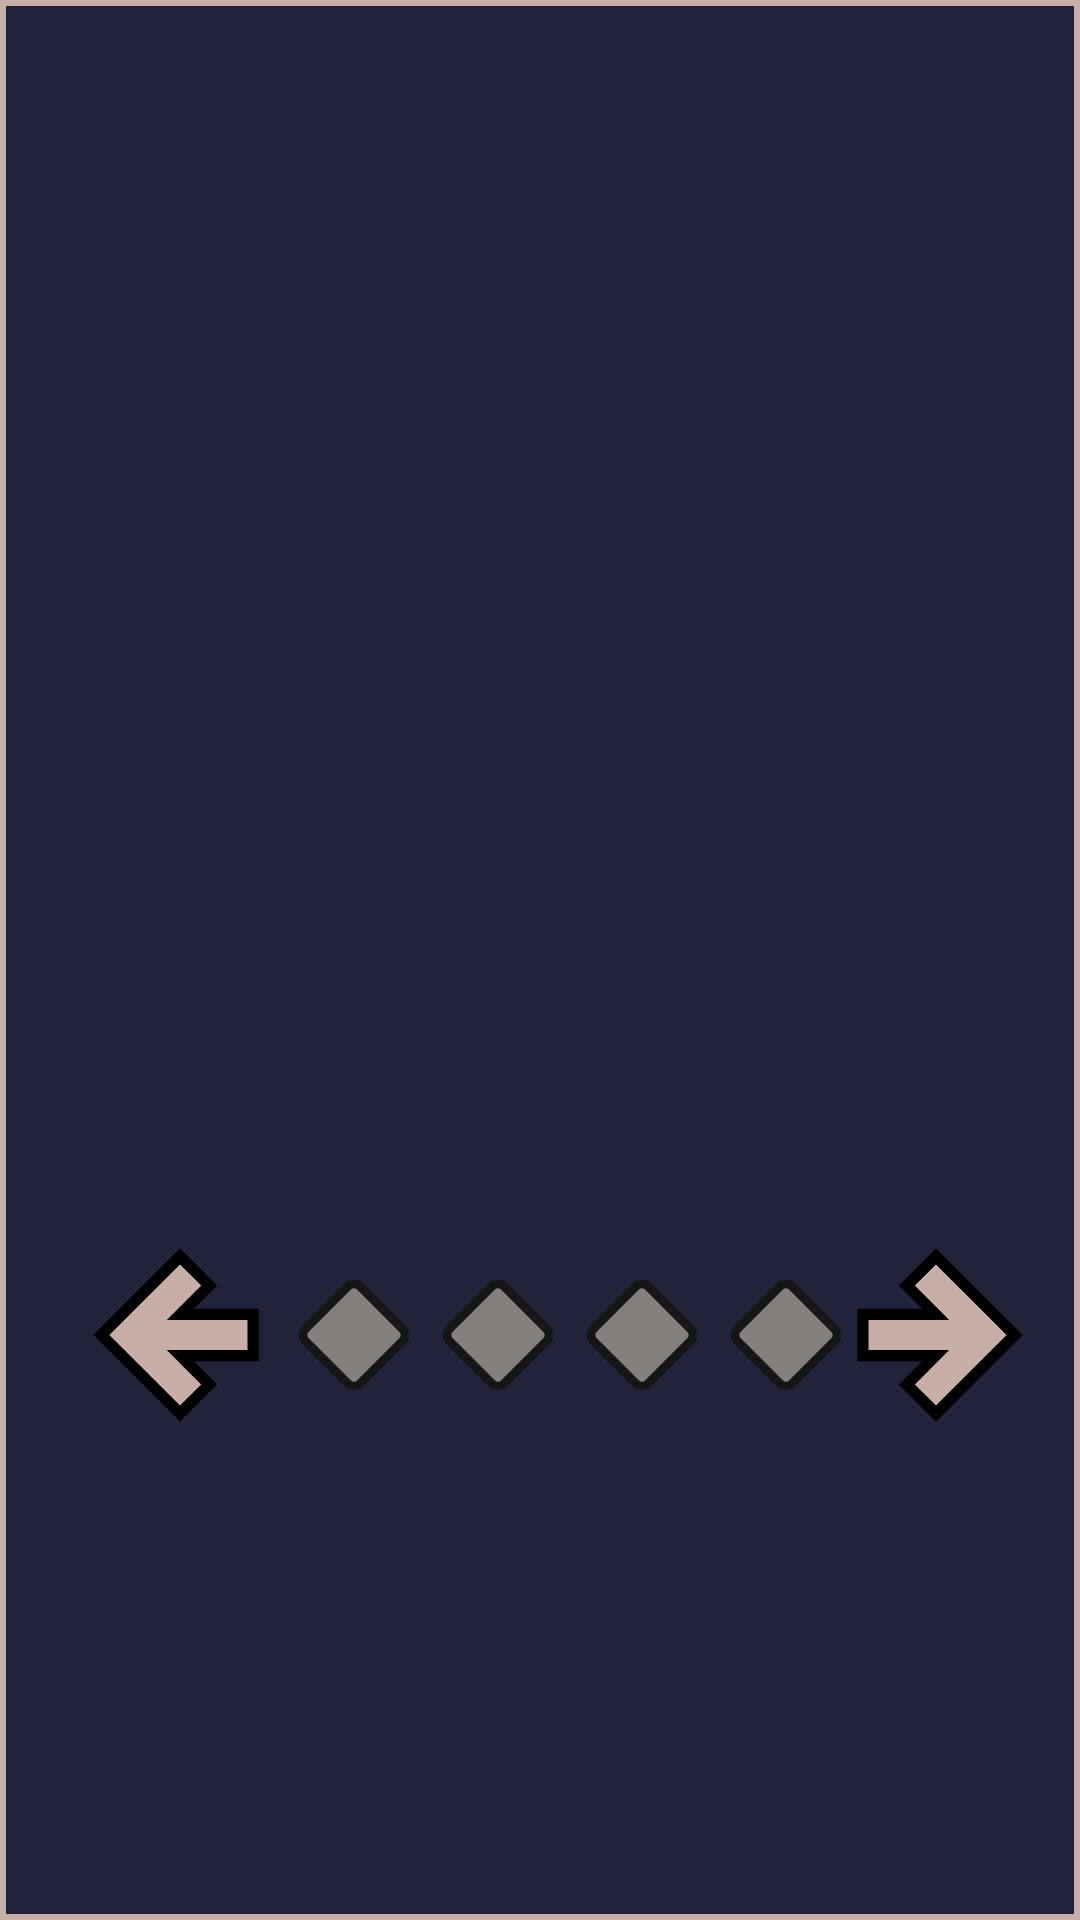

Icons on this 1080x1920 Android screen, each with the point to tap as [x,y]:
arrow back: [176,1335]
arrow forward: [939,1335]
